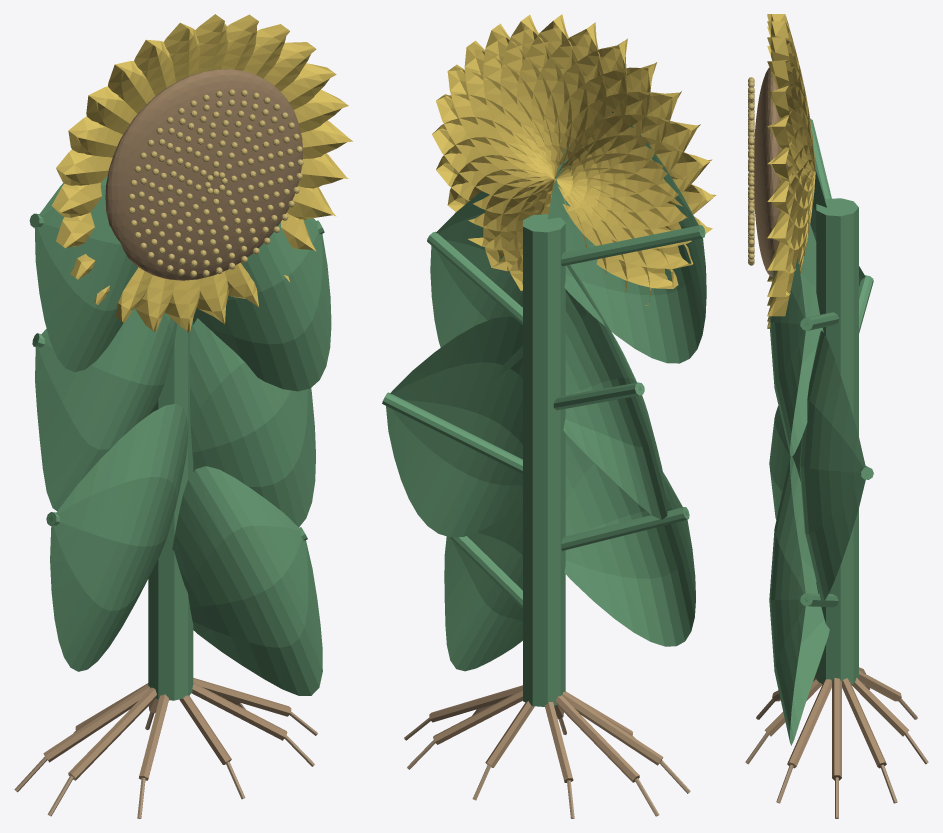
File: 55_Qoqiotdoshlar.glb
3 views of the same model, side by side, from view 1: azimuth 30°, elevation 25°; view 2: azimuth 150°, elevation 25°; view 3: azimuth 270°, elevation 25° (orthographic). The views are drawn at different scales.
Parts seen in each view (by area): view 1: leaf, flower, stem, root; view 2: leaf, flower, stem, root; view 3: leaf, flower, stem, root.
Boxes of the visible parts, left/top/right/bottom form: leaf: left=34, top=176, right=331, bottom=695; flower: left=51, top=14, right=352, bottom=332; stem: left=29, top=213, right=324, bottom=700; root: left=14, top=678, right=317, bottom=818; leaf: left=386, top=111, right=706, bottom=671; flower: left=432, top=14, right=716, bottom=305; stem: left=382, top=214, right=705, bottom=706; root: left=404, top=685, right=690, bottom=818; leaf: left=769, top=170, right=865, bottom=745; flower: left=748, top=14, right=815, bottom=328; stem: left=800, top=118, right=873, bottom=684; root: left=745, top=667, right=928, bottom=818.
Bounding box in the file's own units: 1.1 × 2.63 × 0.603.
